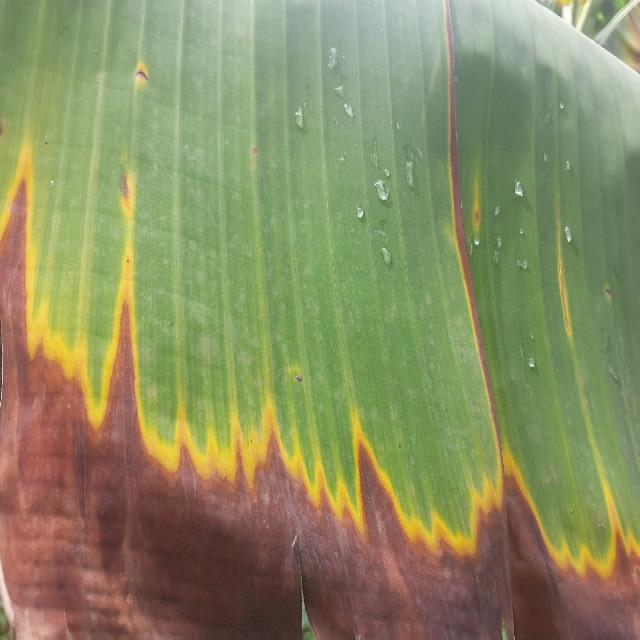Cordana: (0, 113, 640, 596), (130, 56, 170, 107)
